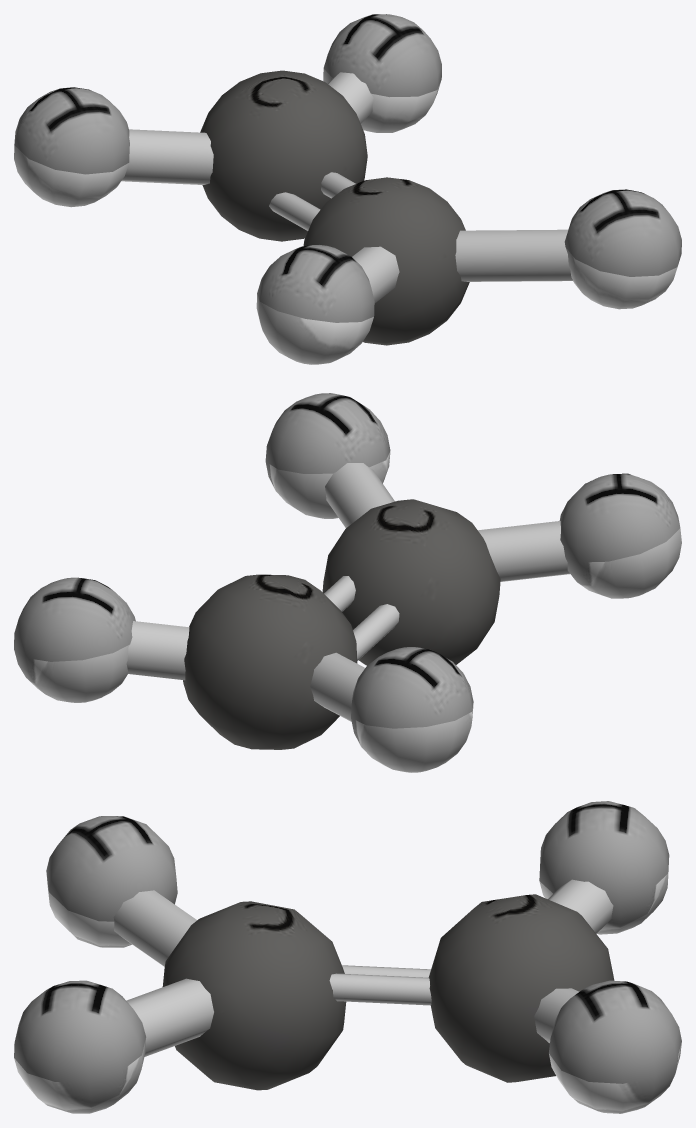
Rendered from Ethene.fbx.
3 renders of one model, top to bottom at view 1: azimuth 30°, elevation 25°; view 2: azimuth 150°, elevation 25°; view 3: azimuth 270°, elevation 25°, orthographic. The views are drawn at different scales.
Visible parts, largest first — view 1: Ethene_; view 2: Ethene_; view 3: Ethene_.
Part boxes in pixels (left/top/right/bottom): Ethene_: left=14, top=14, right=681, bottom=364; Ethene_: left=14, top=393, right=681, bottom=772; Ethene_: left=14, top=801, right=681, bottom=1113.
Size of the model in its own units: 24.45 by 9.36 by 30.4.
Materials: 2 (1 with a texture image).
